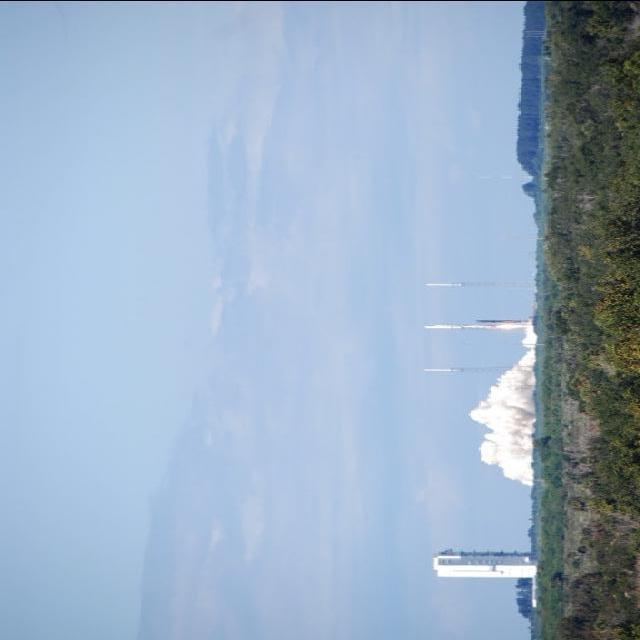missile: (413, 316, 502, 336), (424, 279, 467, 294), (422, 365, 466, 377)
